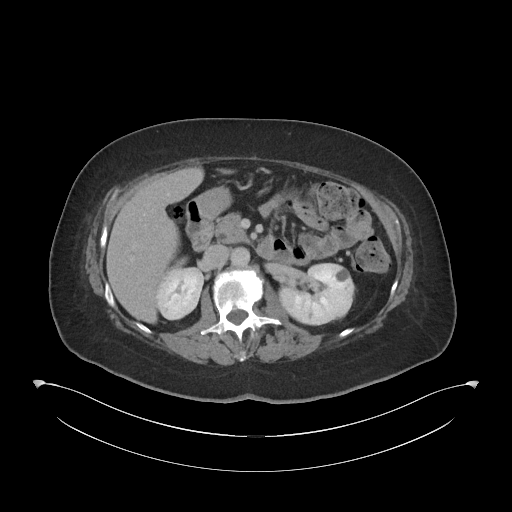Lesion: (336, 266, 351, 282)
